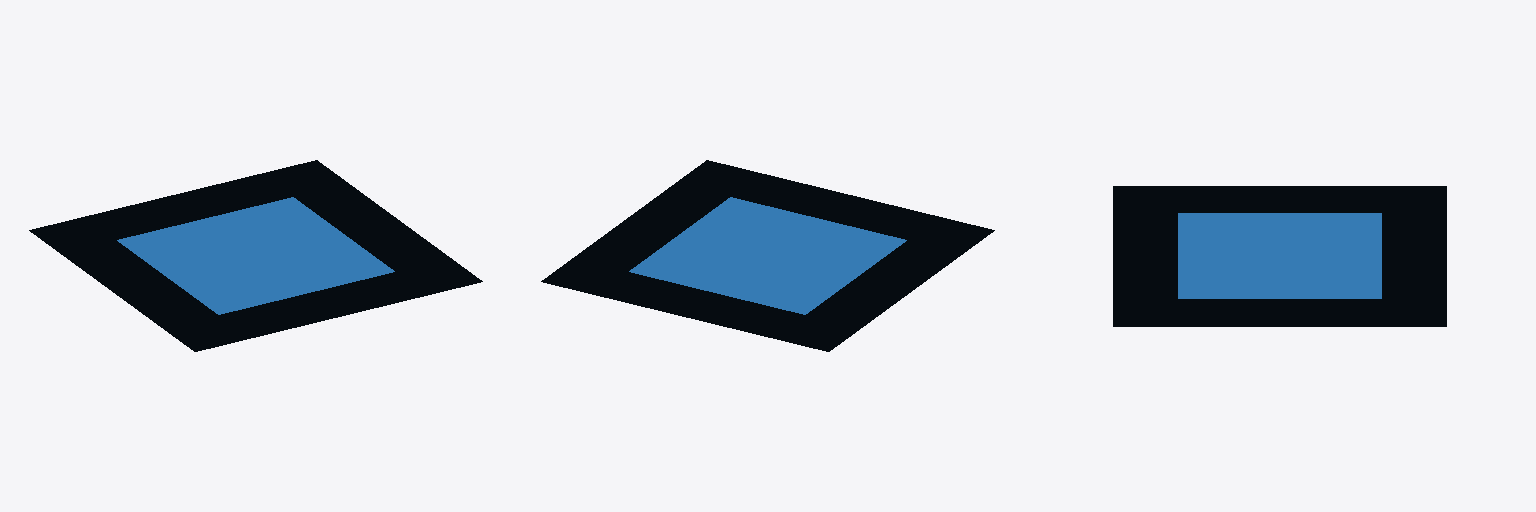
File: lowPolyBoat.obj
The picture shows the model from 3 angles: view 1: azimuth 30°, elevation 25°; view 2: azimuth 150°, elevation 25°; view 3: azimuth 270°, elevation 25°; orthographic projection.
Visible parts, largest first — view 1: Ocean.001, Ocean; view 2: Ocean.001, Ocean; view 3: Ocean.001, Ocean.
Part boxes in pixels (left/top/right/bottom): Ocean.001: left=29, top=160, right=482, bottom=351; Ocean: left=117, top=197, right=394, bottom=314; Ocean.001: left=541, top=160, right=994, bottom=351; Ocean: left=629, top=197, right=906, bottom=314; Ocean.001: left=1113, top=186, right=1446, bottom=326; Ocean: left=1178, top=213, right=1381, bottom=298.
Bounding box in the file's own units: 11661 × 10.19 × 11661.